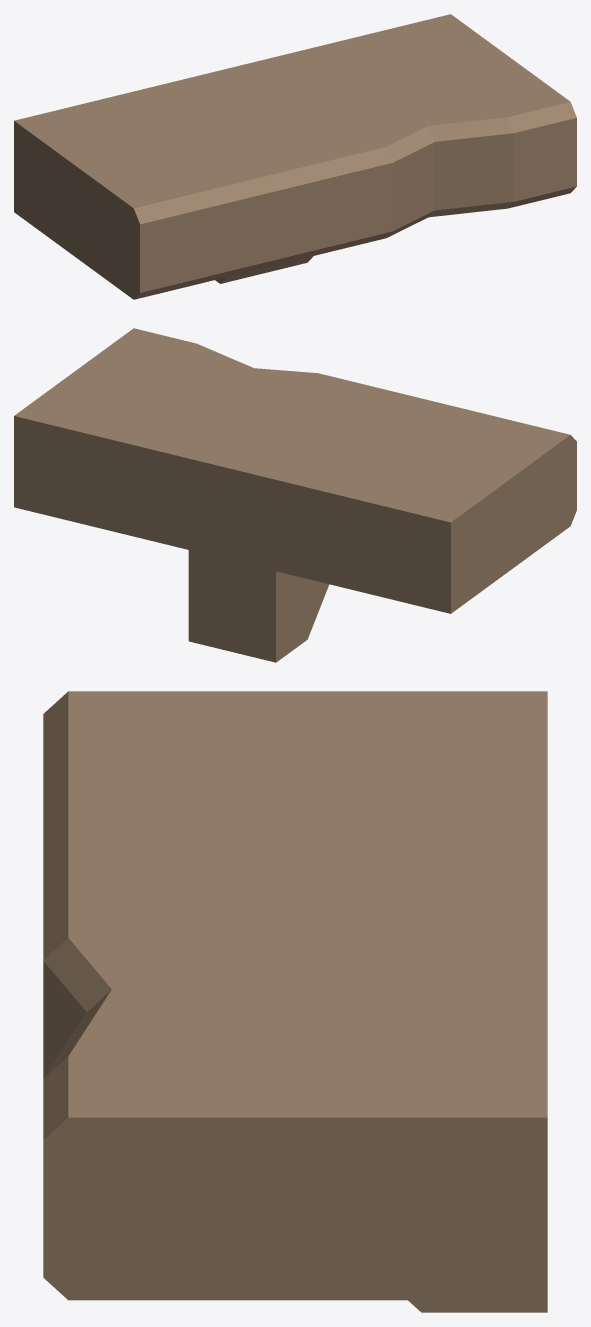
3 views of the same model, one above another, from view 1: azimuth 30°, elevation 25°; view 2: azimuth 150°, elevation 25°; view 3: azimuth 270°, elevation 25° (orthographic). The views are drawn at different scales.
Parts seen in each view (by area): view 1: model; view 2: model; view 3: model.
Boxes of the visible parts, bbox=[...] form: model: bbox=[14, 14, 576, 299]; model: bbox=[14, 328, 576, 662]; model: bbox=[43, 691, 547, 1312].
Size of the model in its own units: 0.7 by 0.28 by 0.35.
